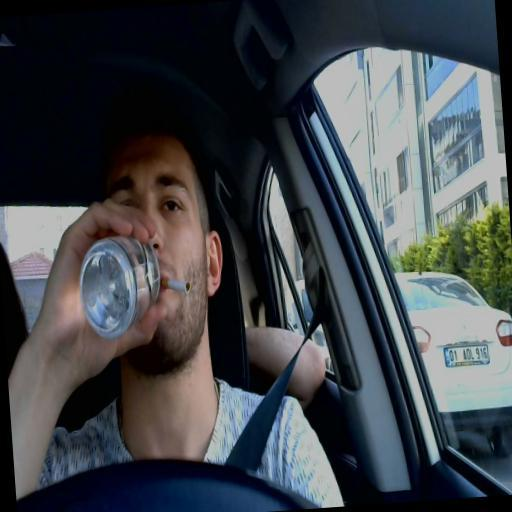Drinking: (60, 136, 222, 374)
